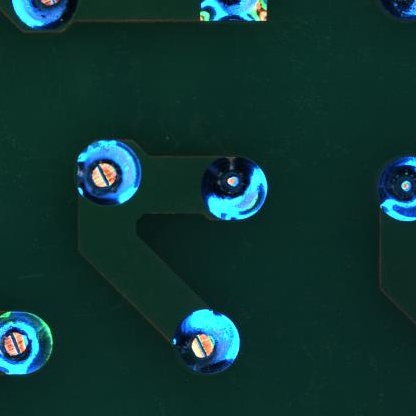spot: (173, 306, 243, 376), (74, 137, 144, 206), (201, 155, 270, 222), (1, 309, 54, 378), (376, 152, 416, 222)
